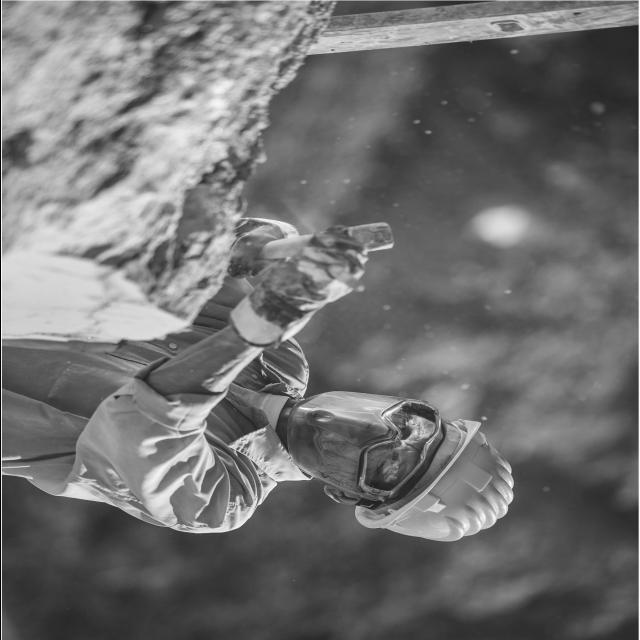safety_helmet: (351, 418, 514, 543)
